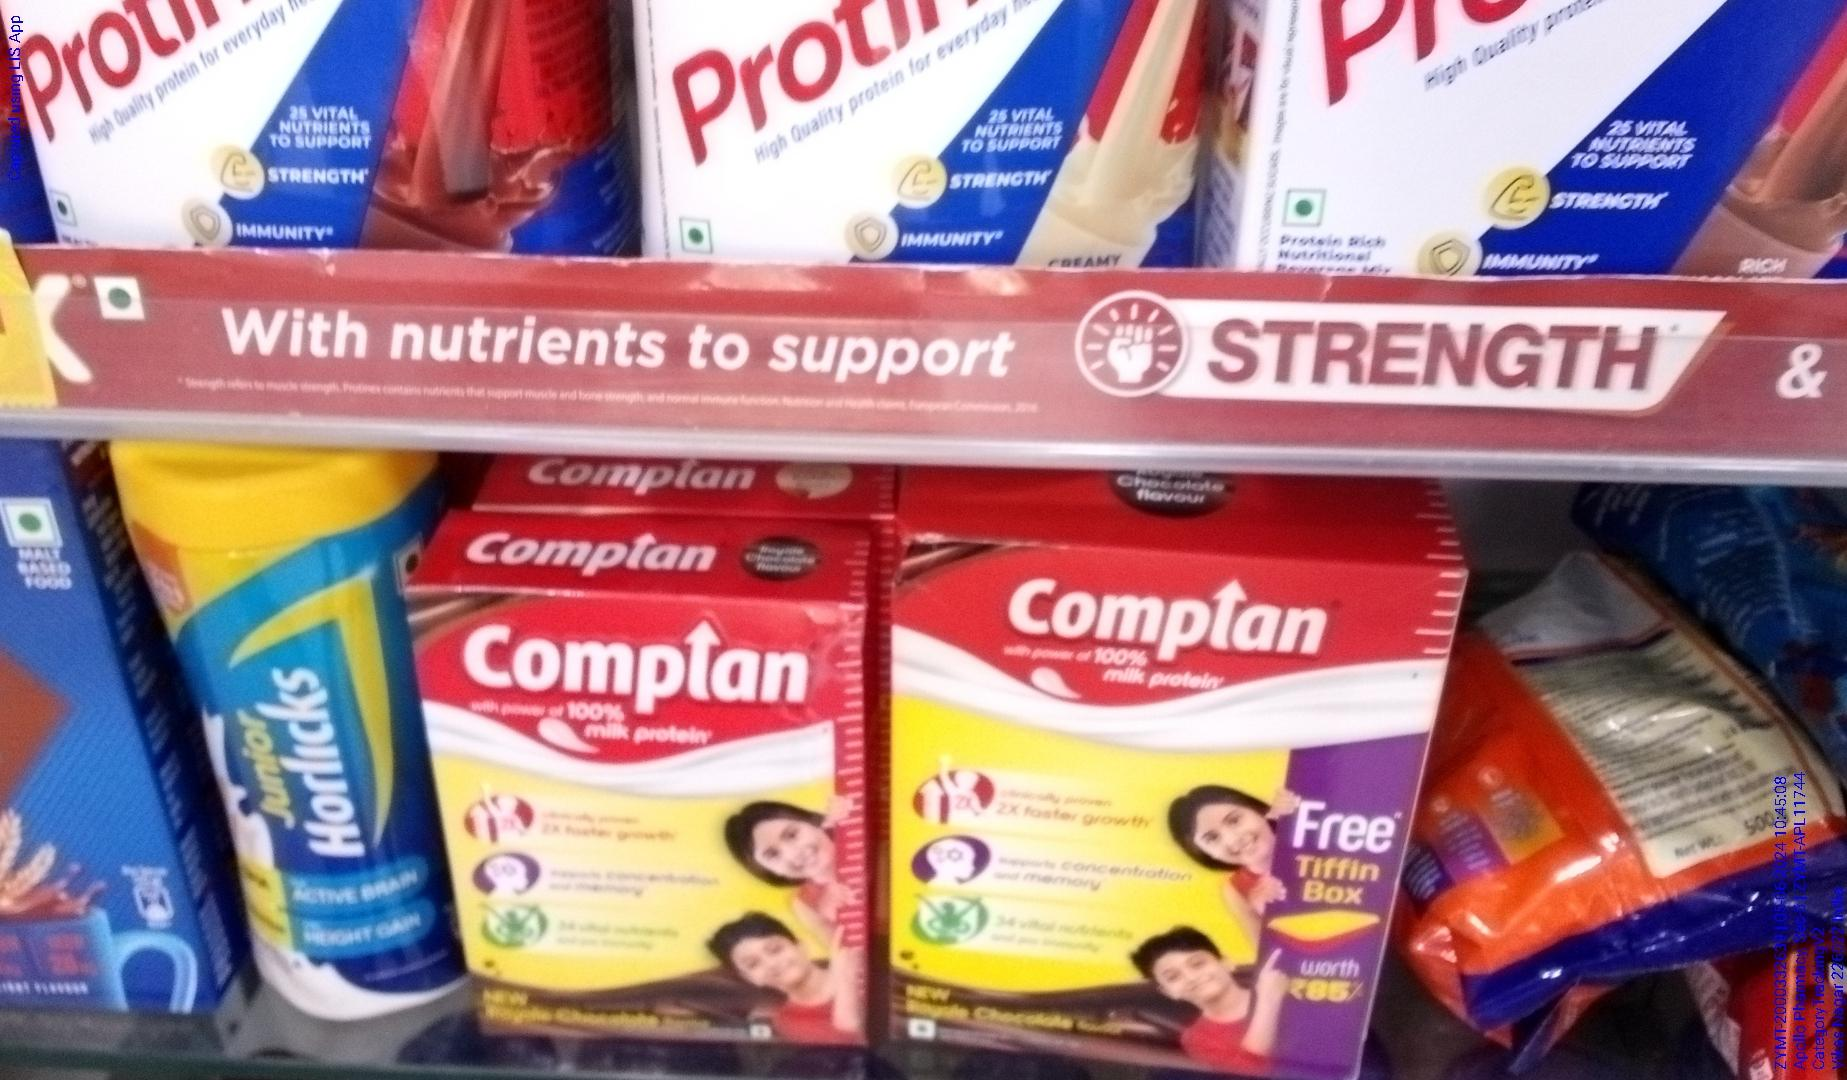COMPLAN_CHOCOLATE_500_GMS_PACK: (889, 514, 1411, 1076), (441, 585, 853, 1049)
HORLICKS_JUNIOR_VANILLA_500_GM_JAR: (207, 469, 405, 1016)
